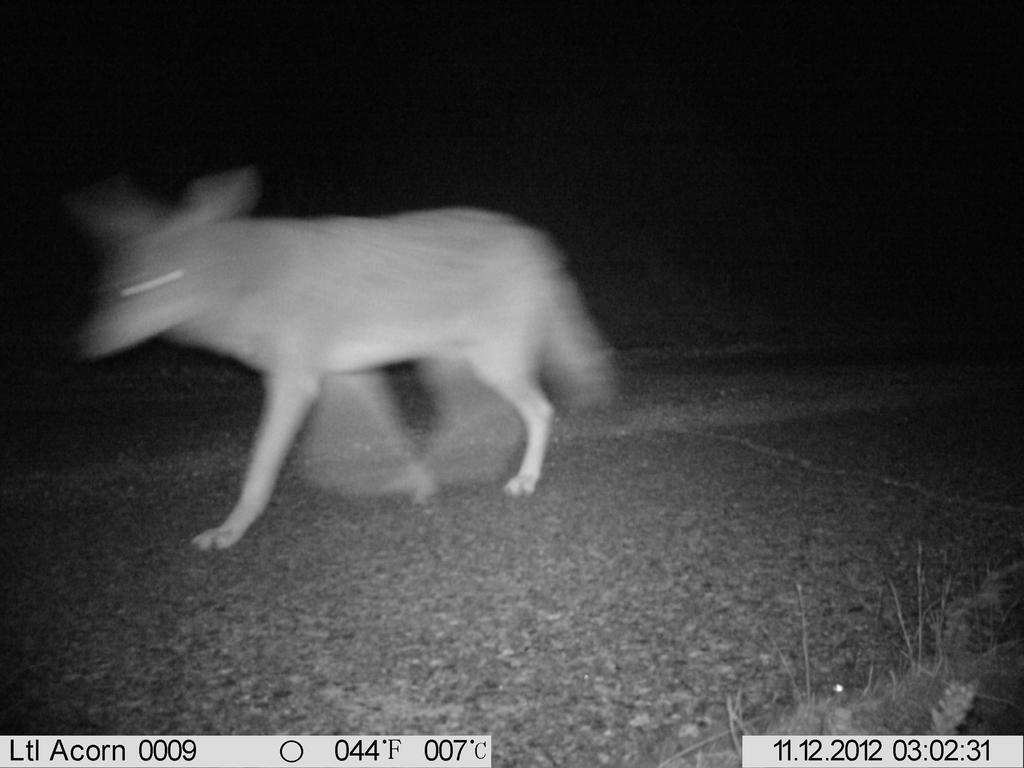coyote: (69, 150, 673, 559)
